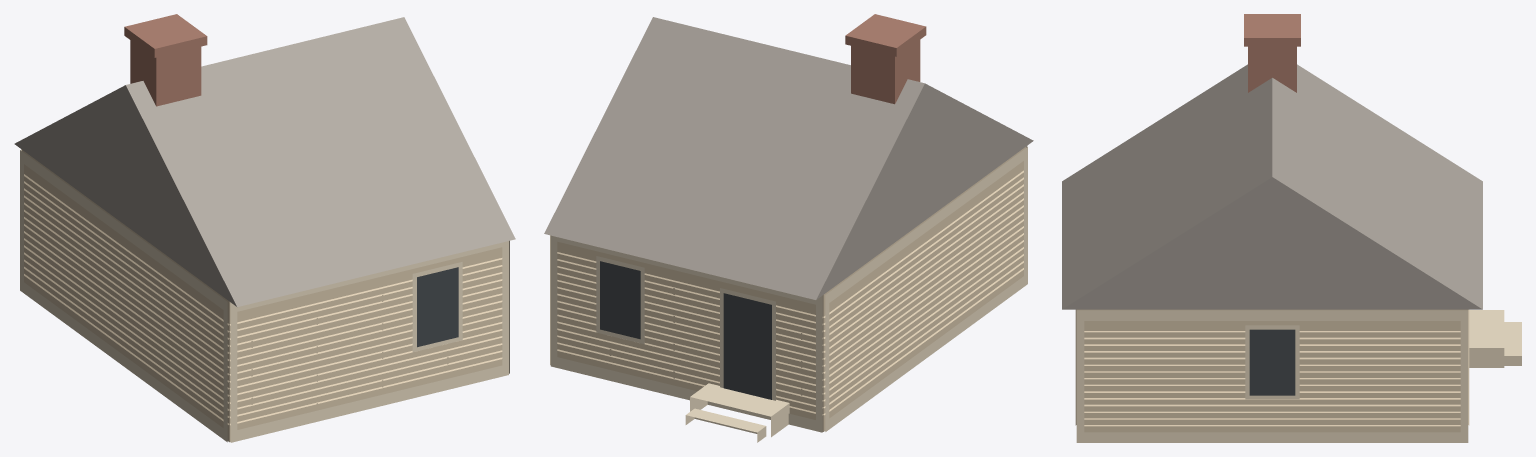
Rendered from recon_1835_blk_randolph_dearborn_d3_15__inferred_1835.glb.
The picture shows the model from 3 angles, left to right: view 1: azimuth 30°, elevation 25°; view 2: azimuth 150°, elevation 25°; view 3: azimuth 270°, elevation 25°; orthographic projection. The views are drawn at different scales.
Parts seen in each view (by area): view 1: recon_1835_blk_randolph_dearborn_d3_15__inferred_1835; view 2: recon_1835_blk_randolph_dearborn_d3_15__inferred_1835; view 3: recon_1835_blk_randolph_dearborn_d3_15__inferred_1835.
Boxes of the visible parts, bbox=[...] form: recon_1835_blk_randolph_dearborn_d3_15__inferred_1835: bbox=[14, 14, 515, 442]; recon_1835_blk_randolph_dearborn_d3_15__inferred_1835: bbox=[544, 14, 1033, 442]; recon_1835_blk_randolph_dearborn_d3_15__inferred_1835: bbox=[1062, 14, 1521, 442].
Size of the model in its own units: 5.28 by 5.8 by 7.89.
